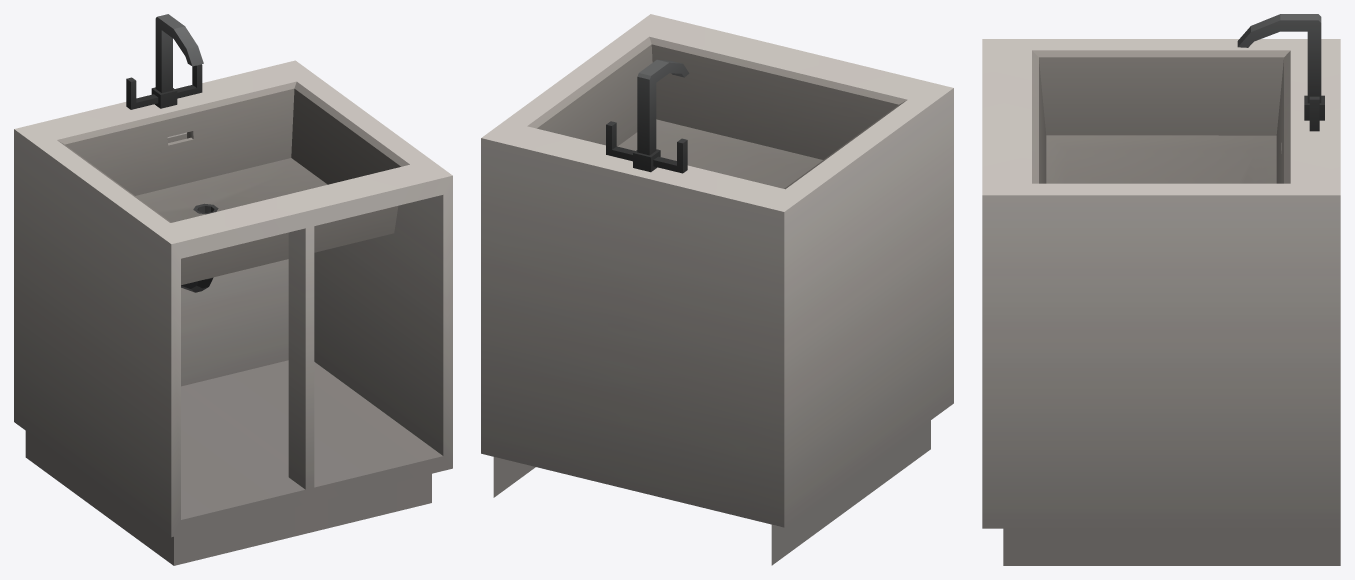
The model's file is Unit_SinkBase_open.fbx.
3 views of the same model, side by side, from view 1: azimuth 30°, elevation 25°; view 2: azimuth 150°, elevation 25°; view 3: azimuth 270°, elevation 25° (orthographic). The views are drawn at different scales.
Parts seen in each view (by area): view 1: Unit_SinkBase_open; view 2: Unit_SinkBase_open; view 3: Unit_SinkBase_open.
Boxes of the visible parts, left/top/right/bottom form: Unit_SinkBase_open: left=14, top=14, right=452, bottom=565; Unit_SinkBase_open: left=481, top=14, right=953, bottom=565; Unit_SinkBase_open: left=982, top=14, right=1340, bottom=565.
Size of the model in its own units: 80 by 114 by 77.54.
